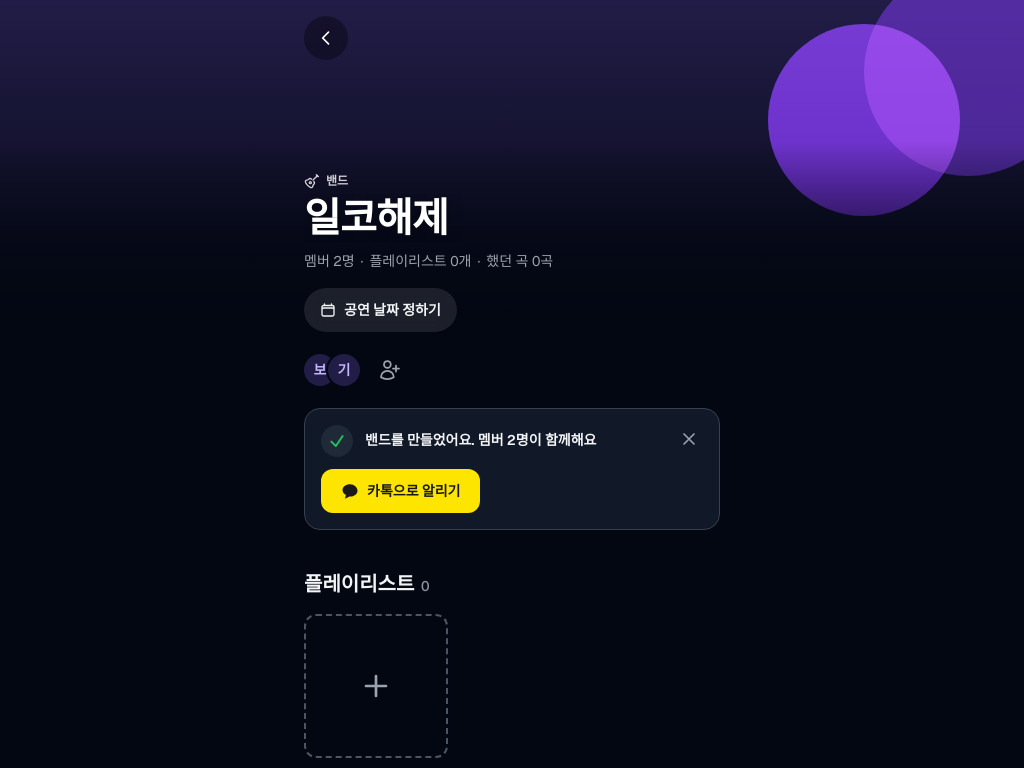
Test: BandHomeClient banners (11A) › shows the created banner once and strips the query on first mount
Expected: the message shows "밴드를 만들었어요. 멤버 2명이 함께해요", [365,431,596,449]
Click the button "카톡으로 알리기": (401, 491) [321,469,480,513]
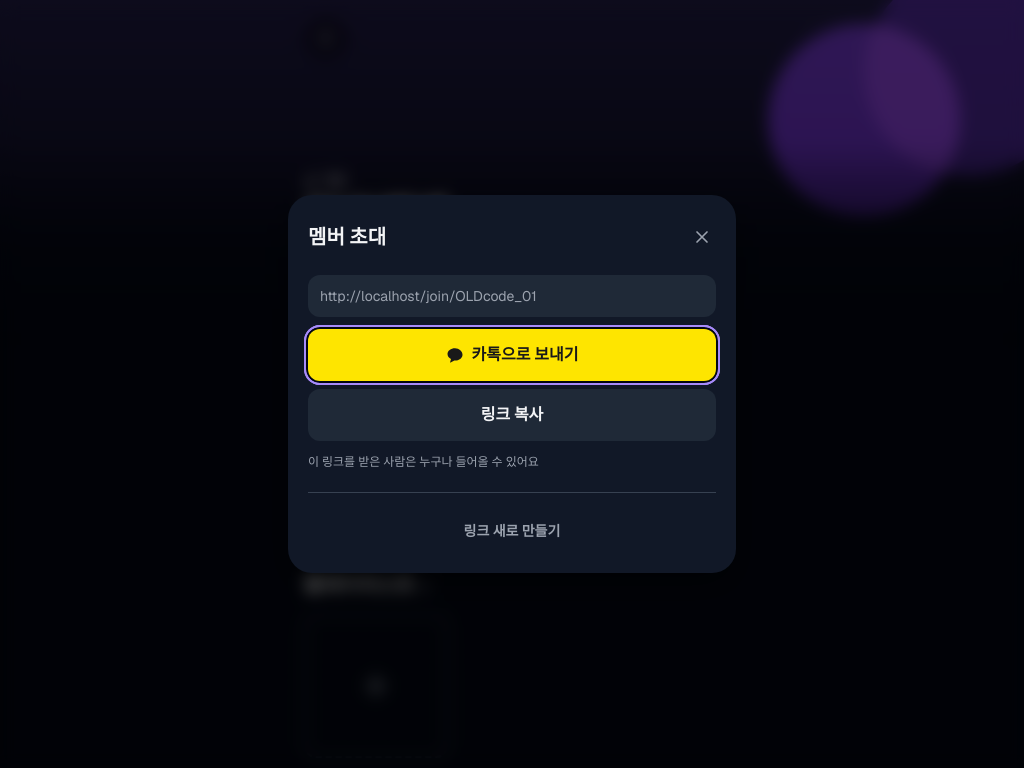
Now the dialog "멤버 초대" is shown
